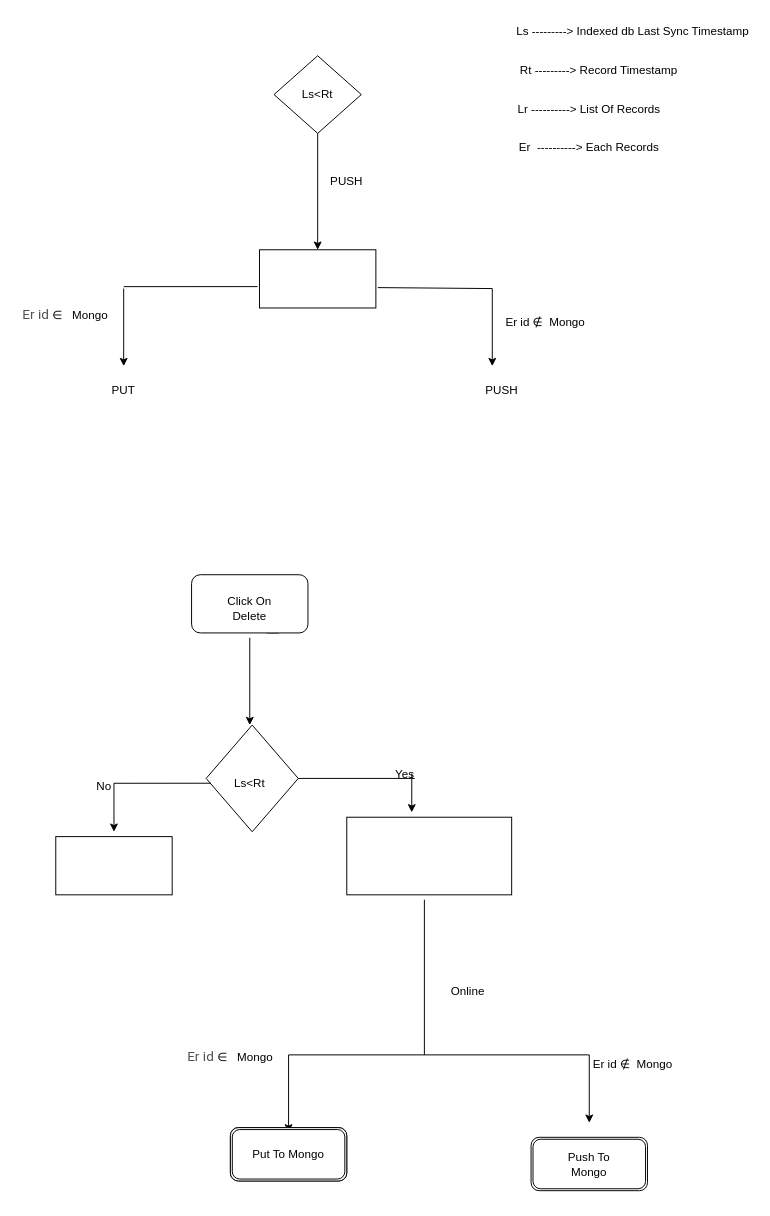
Image size: 770x1216. Some labels were removed from this diagram. The shapes that lost their labels are listed below. From the top down, each one's box as (x1, y1, x2, y2) in pixels, then its label:
(259, 249, 376, 308): Lr
(55, 836, 172, 895): Delete Er from Indexed db
(346, 816, 512, 895): Add Er to Records to sync indexed db
